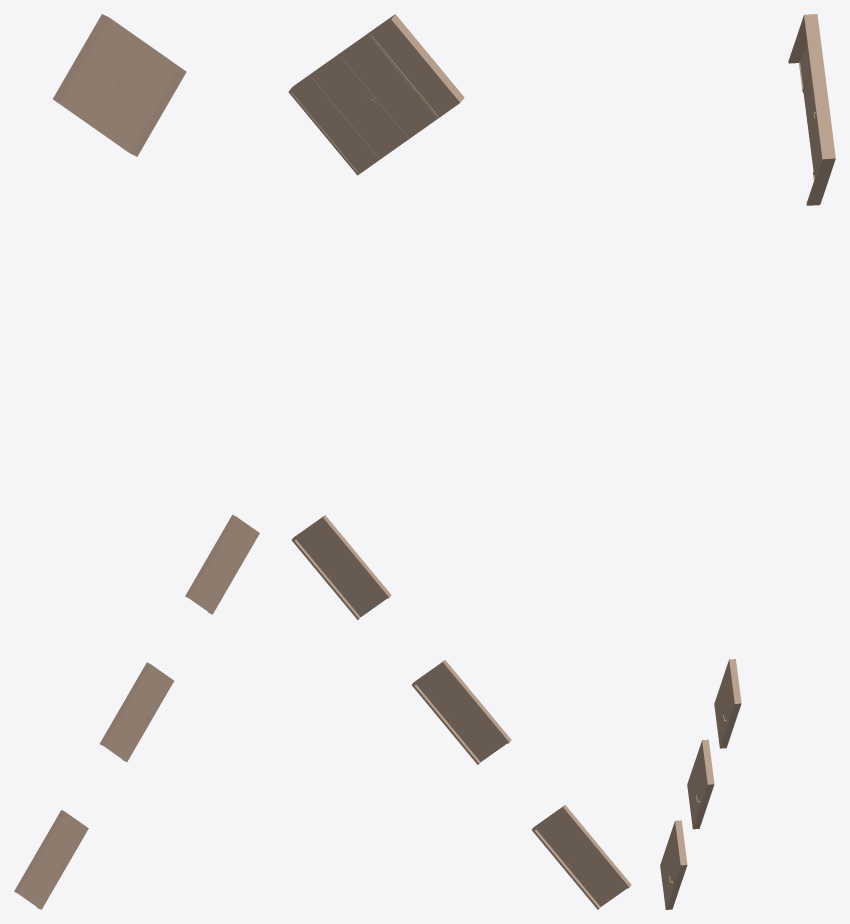
The picture shows the model from 3 angles, left to right: view 1: azimuth 30°, elevation 25°; view 2: azimuth 150°, elevation 25°; view 3: azimuth 270°, elevation 25°; orthographic projection. The views are drawn at different scales.
Parts seen in each view (by area): view 1: mesh; view 2: mesh; view 3: mesh.
Part boxes in pixels (left/top/right/bottom): mesh: left=14, top=14, right=259, bottom=909; mesh: left=288, top=14, right=631, bottom=909; mesh: left=660, top=14, right=835, bottom=909.
Size of the model in its own units: 6.85 by 19.52 by 3.21.
